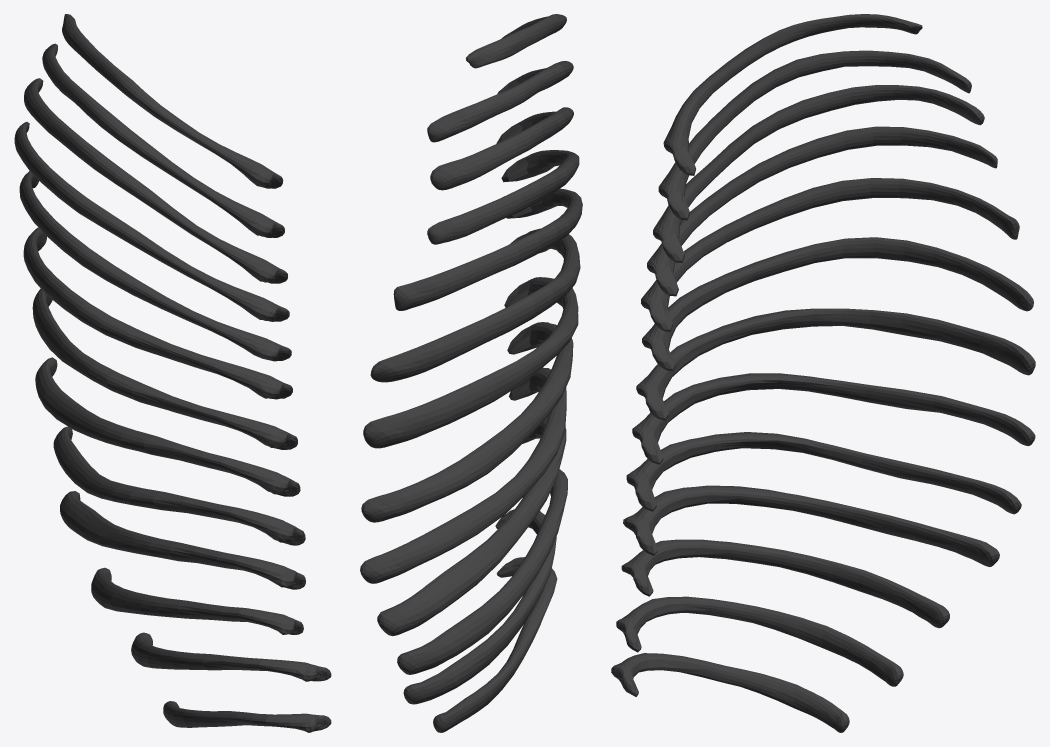
File: 23_2_24_rib_cage_skin_resized_LP_1.glb
3 views of the same model, side by side, from view 1: azimuth 30°, elevation 25°; view 2: azimuth 150°, elevation 25°; view 3: azimuth 270°, elevation 25° (orthographic). The views are drawn at different scales.
Visible parts, largest first — view 1: 23_2_24_rib_cage_skin_resized_LP_1; view 2: 23_2_24_rib_cage_skin_resized_LP_1; view 3: 23_2_24_rib_cage_skin_resized_LP_1.
Boxes of the visible parts, left/top/right/bottom form: 23_2_24_rib_cage_skin_resized_LP_1: left=14, top=14, right=331, bottom=732; 23_2_24_rib_cage_skin_resized_LP_1: left=360, top=14, right=582, bottom=732; 23_2_24_rib_cage_skin_resized_LP_1: left=611, top=14, right=1035, bottom=732.
Bounding box in the file's own units: 0.24 × 0.9588 × 0.5429.
Materials: 1 (1 with a texture image).
